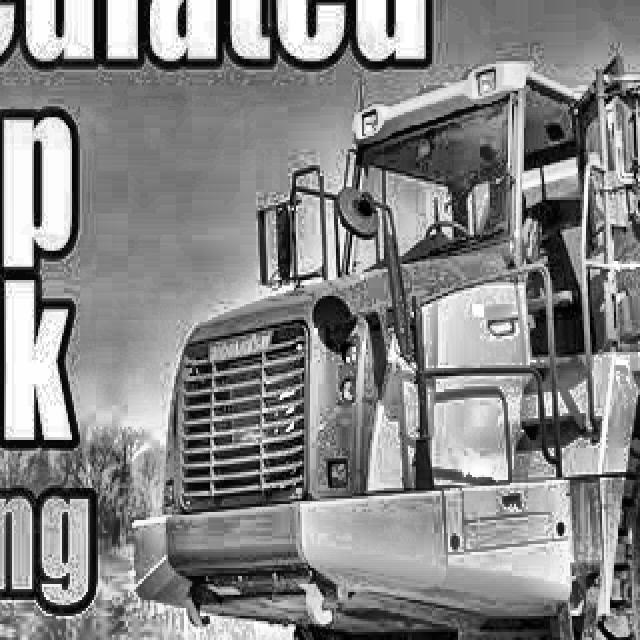dump_truck: (132, 61, 640, 640)
